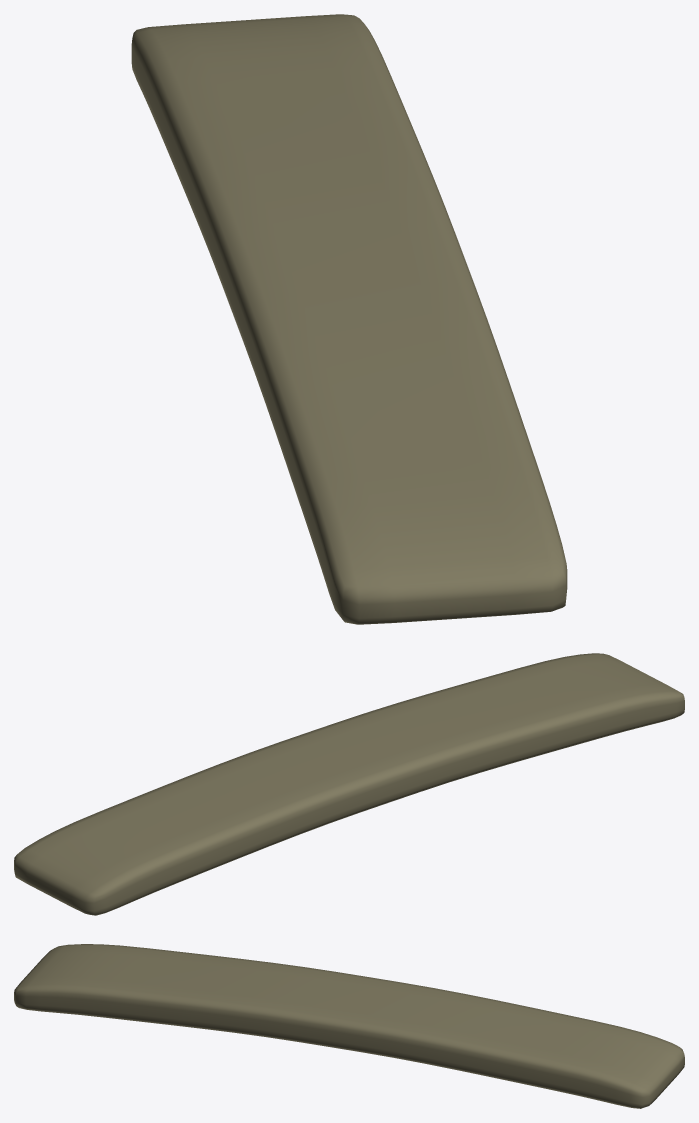
Rendered from Radio-handle.obj.
3 views of the same model, one above another, from view 1: azimuth 30°, elevation 25°; view 2: azimuth 150°, elevation 25°; view 3: azimuth 270°, elevation 25° (orthographic). The views are drawn at different scales.
Parts seen in each view (by area): view 1: Radio-handle_Plane.041; view 2: Radio-handle_Plane.041; view 3: Radio-handle_Plane.041.
Part boxes in pixels (<box>): Radio-handle_Plane.041: <box>131,14,567,624</box>; Radio-handle_Plane.041: <box>14,653,684,915</box>; Radio-handle_Plane.041: <box>14,944,684,1108</box>.
Bounding box in the file's own units: 0.1308 × 0.0167 × 0.2536.
